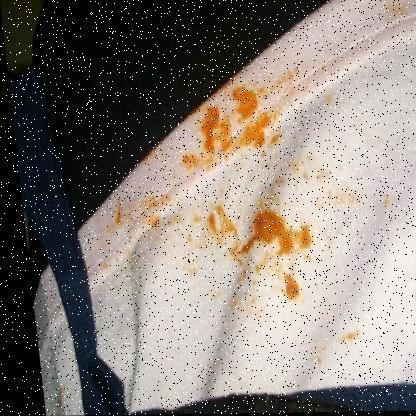kimchi: (203, 194, 316, 301), (195, 109, 294, 167), (105, 198, 187, 236), (228, 84, 305, 107), (304, 162, 357, 190), (100, 245, 142, 275), (175, 249, 201, 290), (325, 325, 361, 348), (267, 66, 312, 84), (379, 1, 408, 17), (179, 149, 195, 172), (319, 87, 333, 111), (54, 387, 69, 408), (378, 191, 393, 207)
